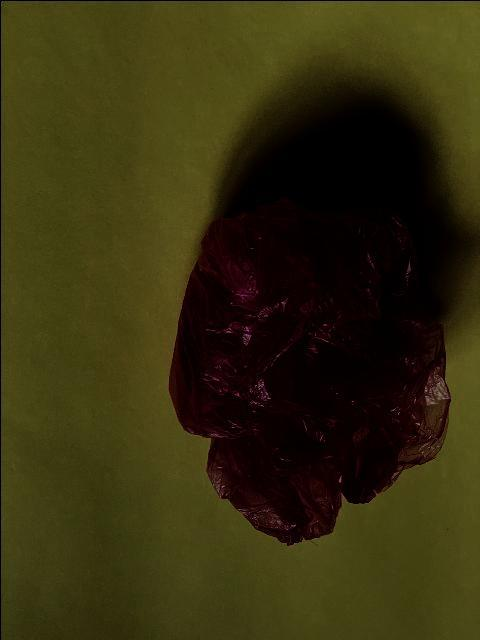plasticbag: (168, 195, 450, 545)
